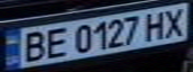0: (69, 21, 93, 54)
1: (90, 18, 112, 51)
2: (106, 16, 127, 48)
7: (121, 14, 145, 45)
B: (15, 28, 51, 63)
E: (39, 25, 72, 60)
H: (139, 9, 172, 40)
X: (157, 6, 193, 38)
